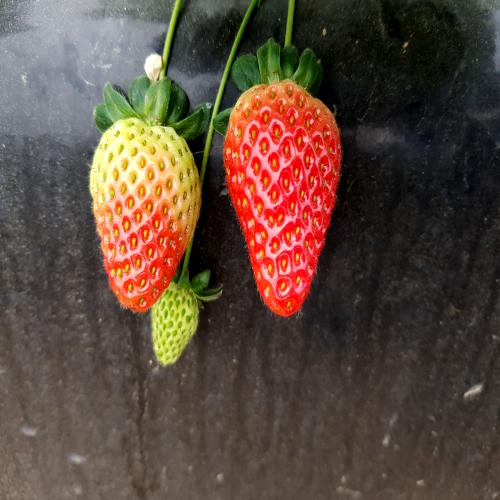partially-ripe: (90, 114, 201, 309)
ripe: (219, 83, 349, 326)
